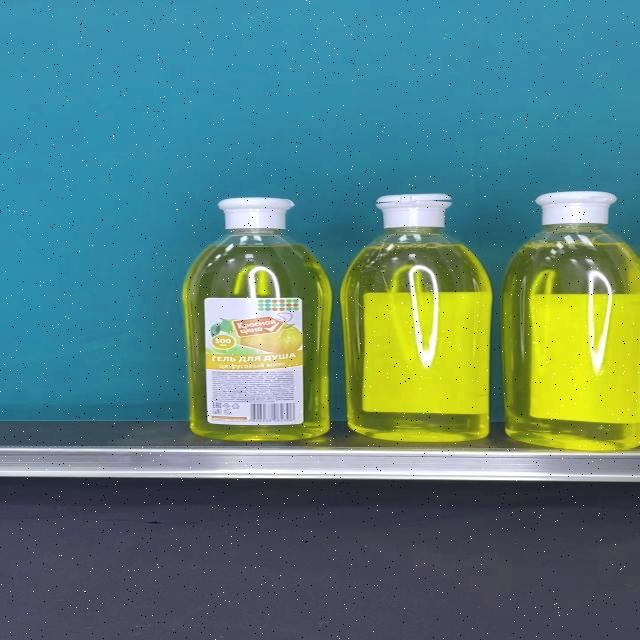Bottle: (342, 193, 492, 442), (182, 197, 332, 441), (503, 190, 640, 451)
Cap: (535, 190, 617, 226), (217, 197, 295, 231), (375, 193, 452, 227)
